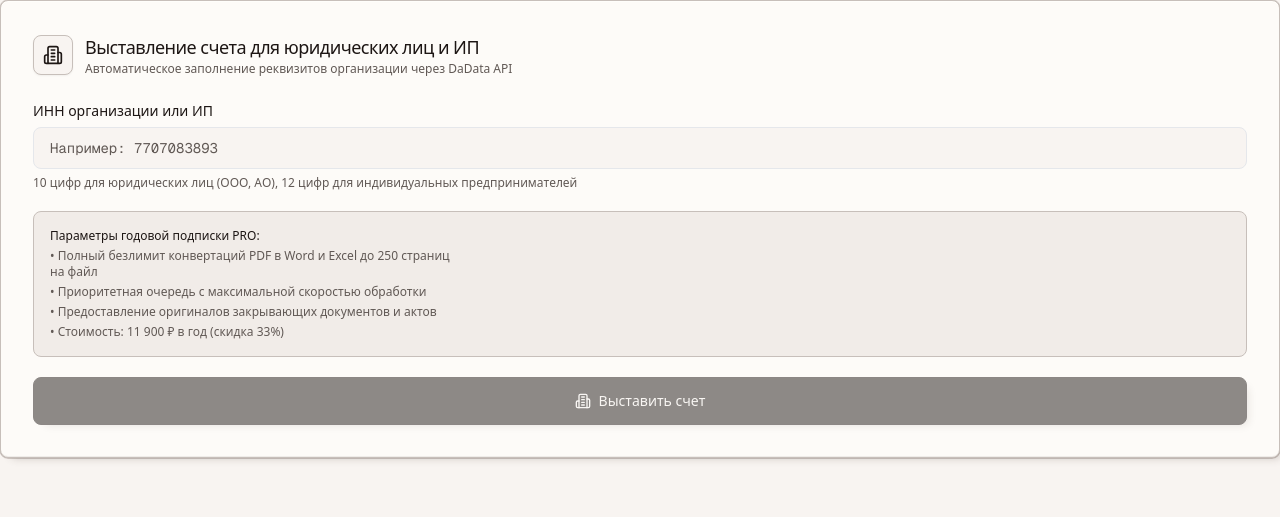
B2BInvoiceForm › clears error on input change
Type "7707083893" into the field with placeholder "Например: 7707083893" at (640, 148), box [33,127,1247,169]
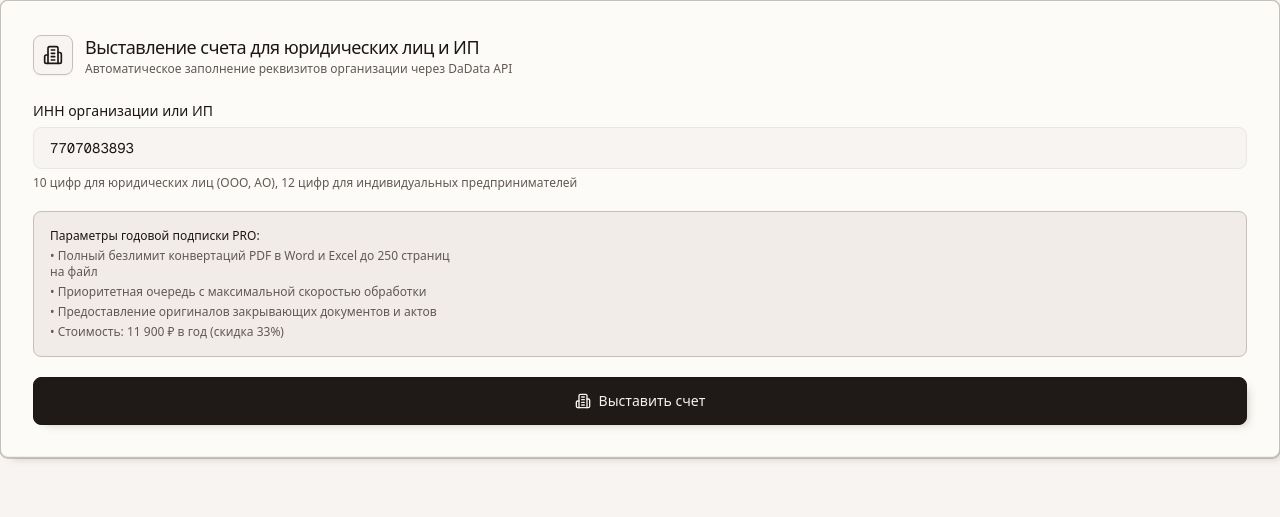
Click the button "Выставить счет" at (640, 401), box [33,377,1247,425]
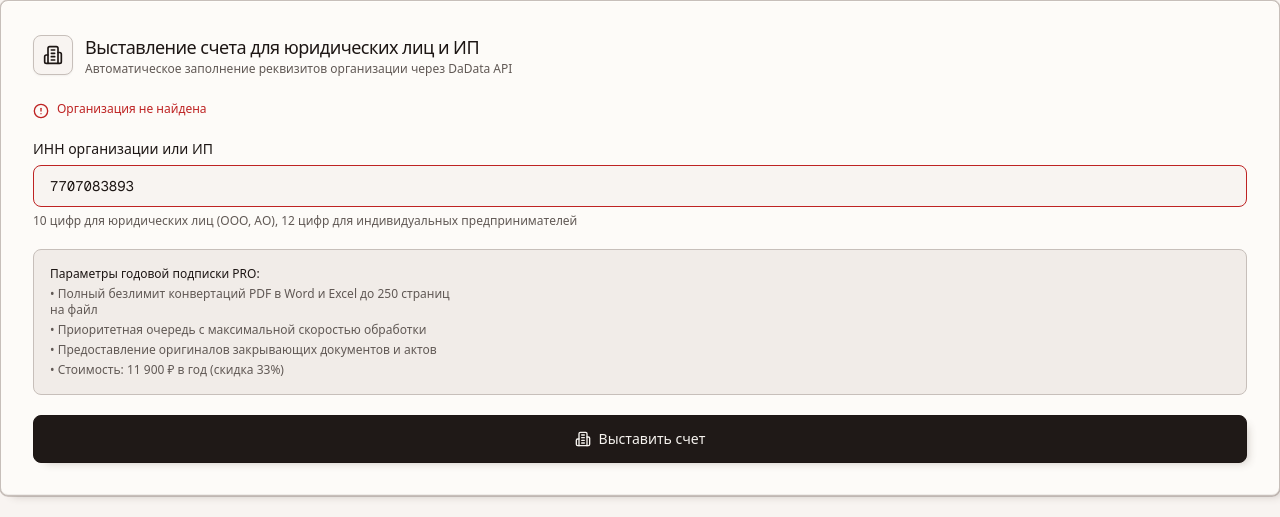
expect the text "Организация не найдена" is shown: met, box [57,101,206,117]
Note: Reset on change
Replace the text in the field with placeholder "Например: 7707083893" with "7707083894" at (640, 186), box [33,165,1247,207]
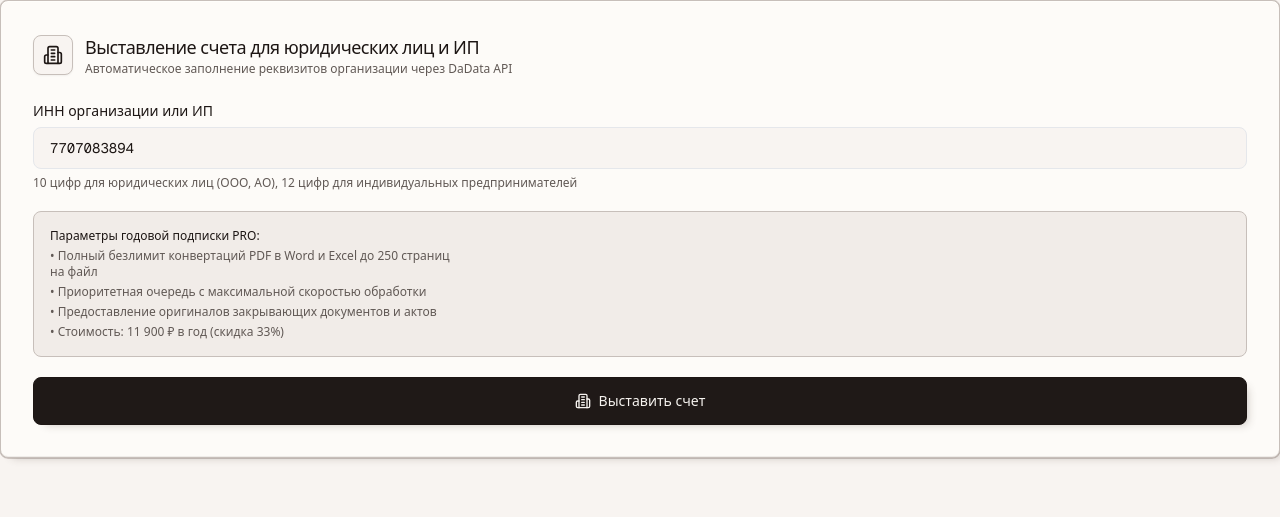
expect the text "Организация не найдена" is gone: met
